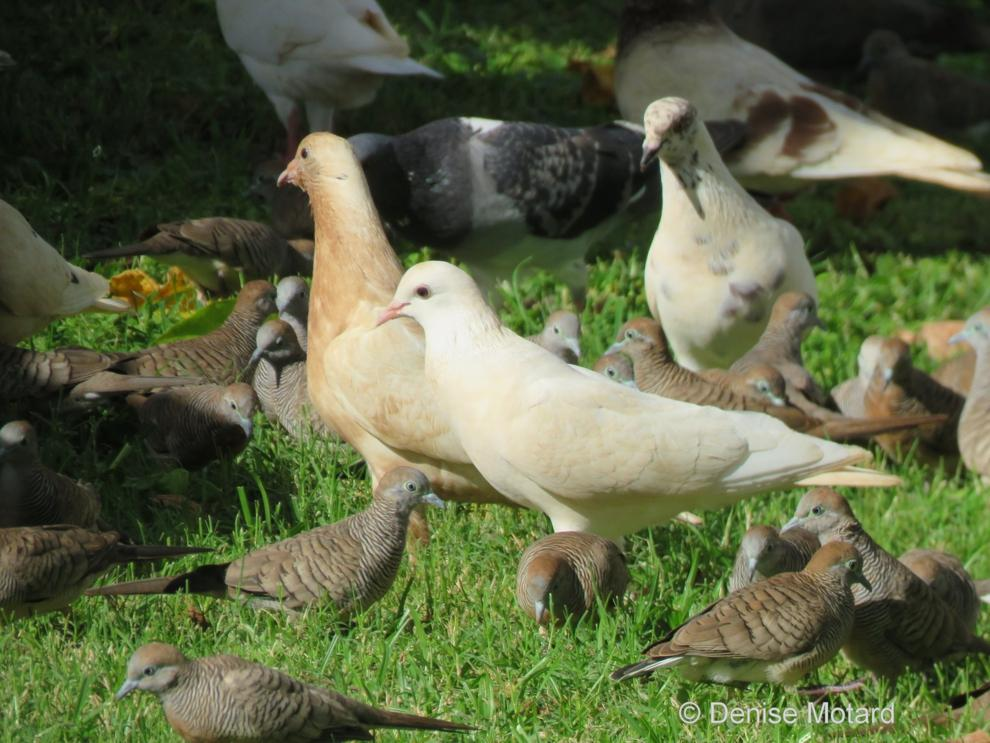Flying Rat: (394, 253, 829, 560), (632, 107, 803, 362), (273, 130, 402, 446)
